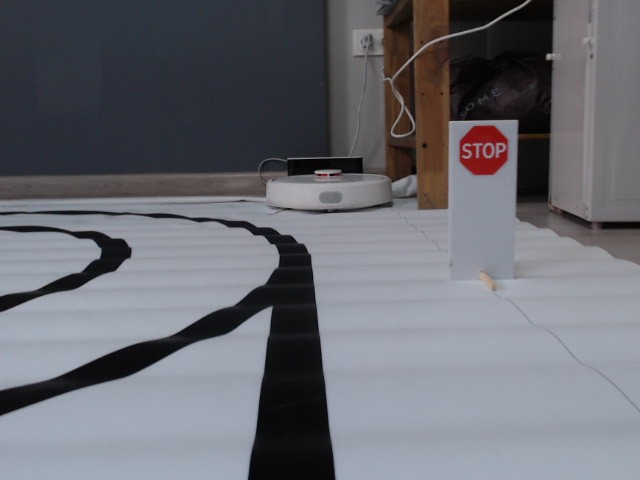Stop: (458, 125, 510, 177)
